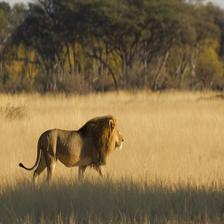Lion: (14, 109, 128, 182)
